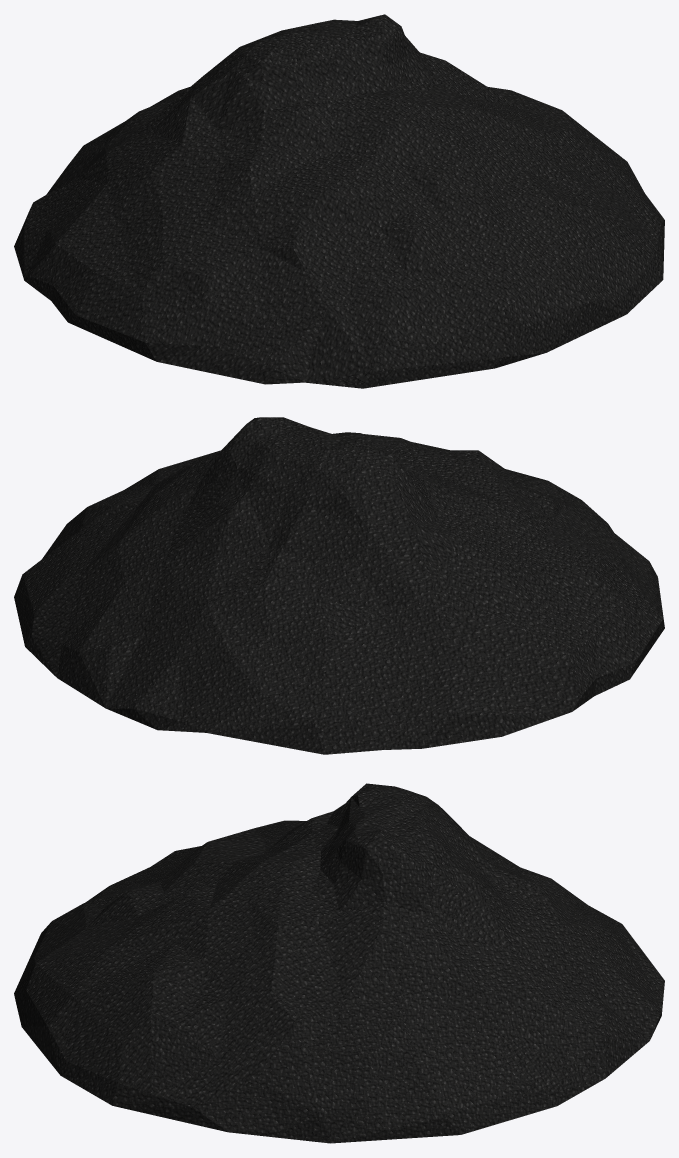
The model's file is trash hill.fbx.
3 views of the same model, one above another, from view 1: azimuth 30°, elevation 25°; view 2: azimuth 150°, elevation 25°; view 3: azimuth 270°, elevation 25° (orthographic).
Visible parts, largest first — view 1: trash hill.001; view 2: trash hill.001; view 3: trash hill.001.
Part boxes in pixels (x1,y1,x2,y2): trash hill.001: [14, 14, 664, 388]; trash hill.001: [14, 417, 664, 754]; trash hill.001: [14, 783, 664, 1143].
Size of the model in its own units: 1366 by 466 by 1366.
